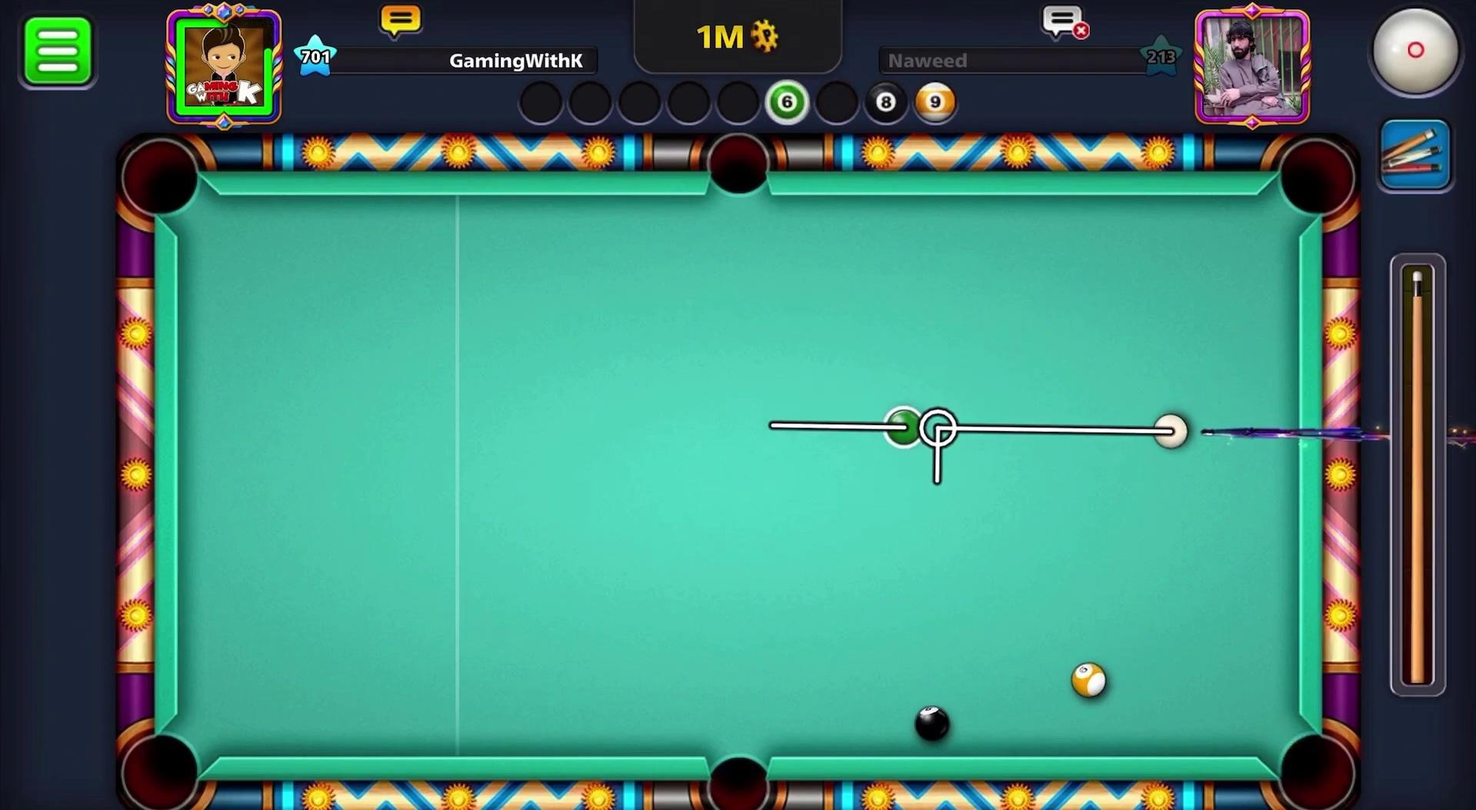Ball: (1067, 655, 1114, 702), (881, 402, 929, 448), (904, 703, 956, 745)
Force: (1388, 254, 1451, 705)
Guideline: (769, 406, 1189, 485)
Hole: (108, 128, 214, 231), (1268, 130, 1365, 231), (1265, 715, 1364, 809), (110, 719, 212, 809), (684, 741, 788, 809), (700, 127, 778, 204)
Play_Area: (178, 193, 1298, 760)
Spin: (1348, 1, 1475, 111)
White: (1152, 408, 1199, 453)
